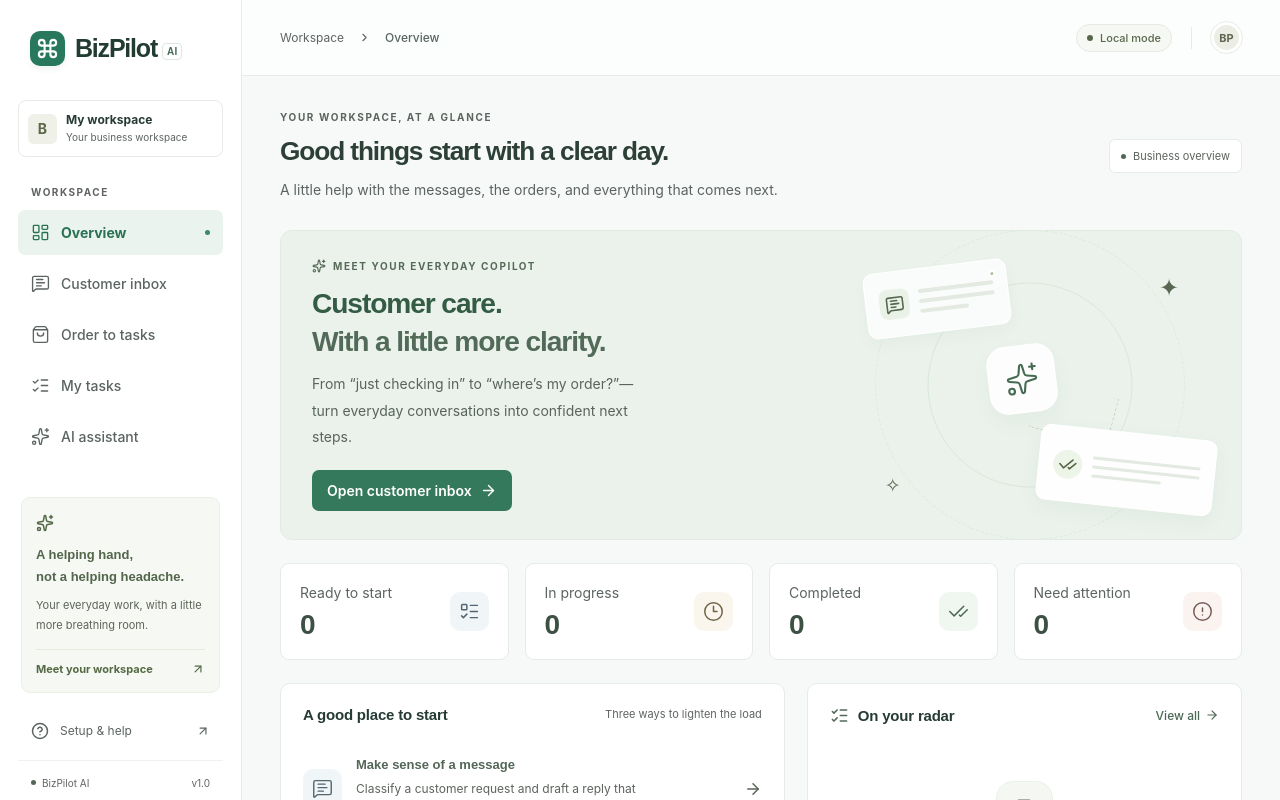
BizPilot workspace › saves a follow-up and disables duplicate saving
The image size is (1280, 800).
Click the button "Customer inbox": (120, 284) [18, 261, 223, 306]
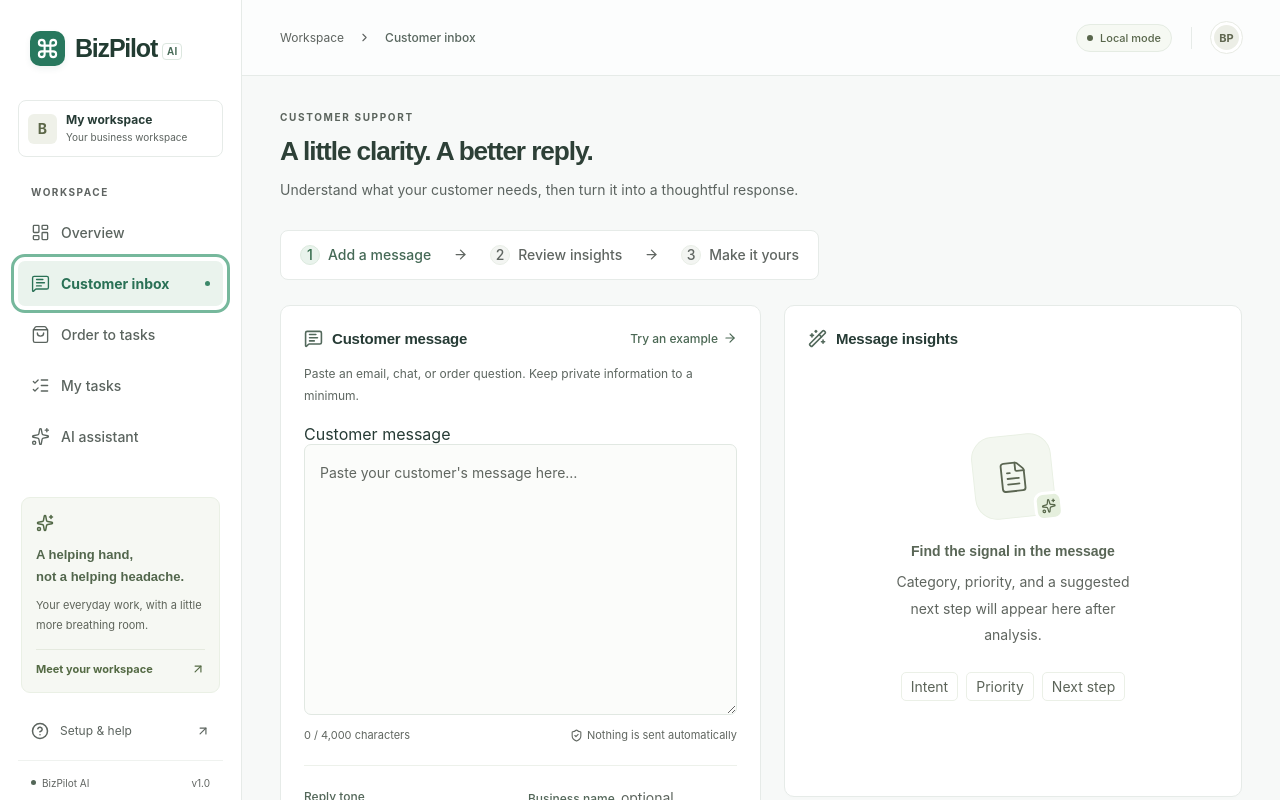
In the text box labelled "Customer message": (520, 580) [304, 444, 737, 715], type "My mug arrived broken"
(page scrolled)
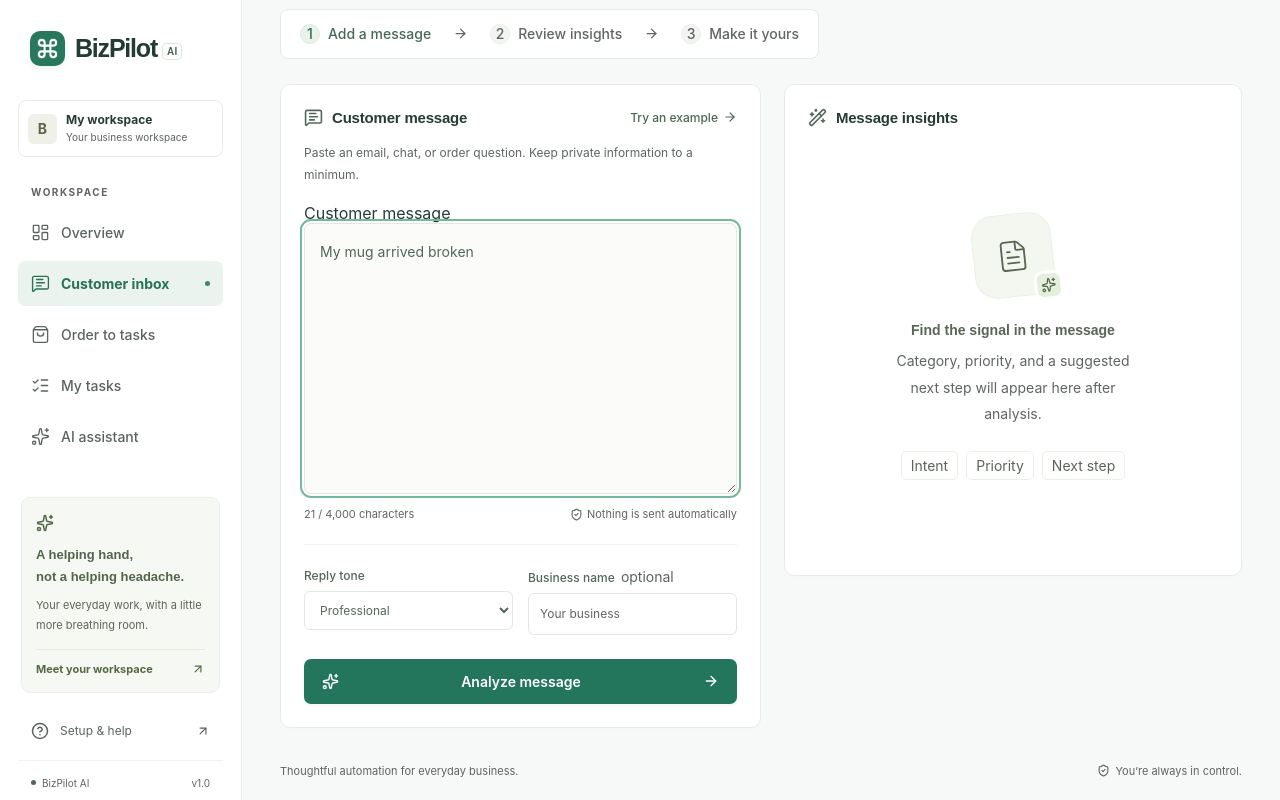
Click the button "Analyze message": (520, 681) [304, 659, 737, 704]
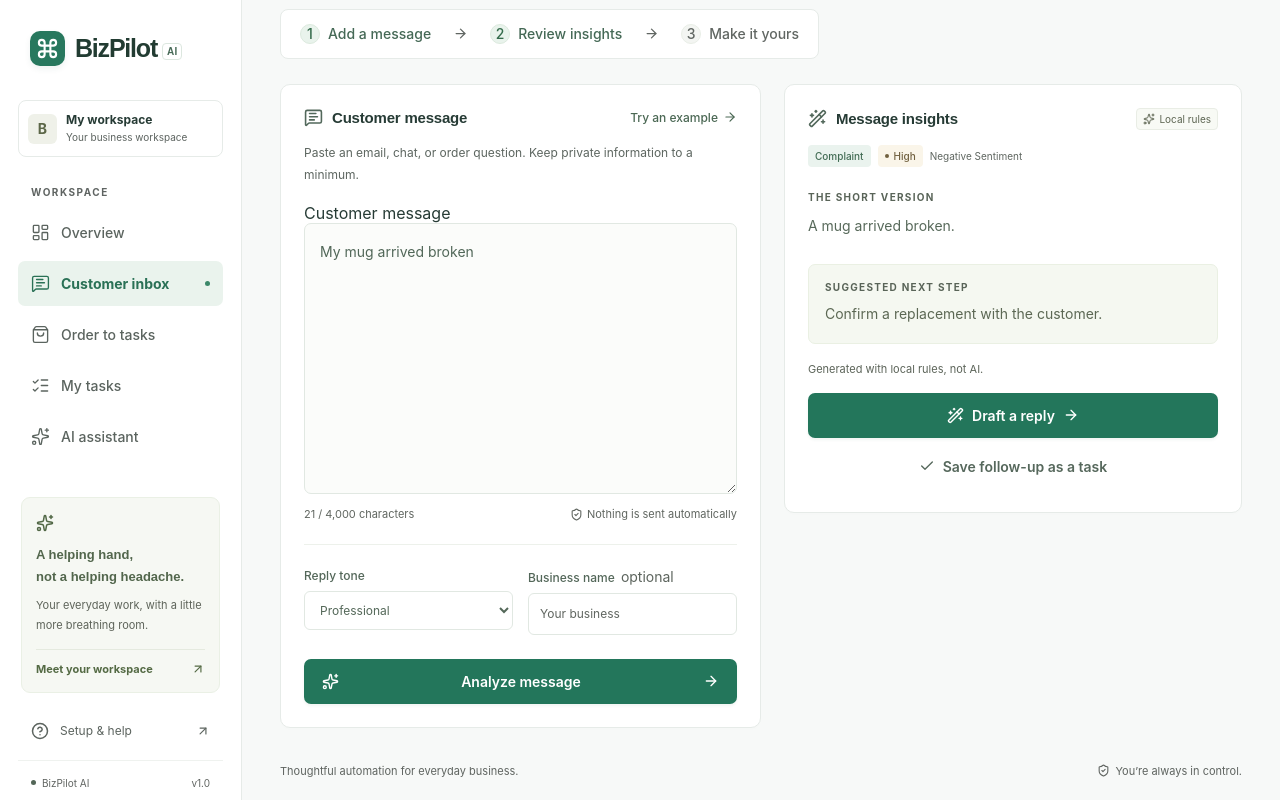
Click the button "Save follow-up as a task": (1013, 466) [808, 444, 1218, 489]
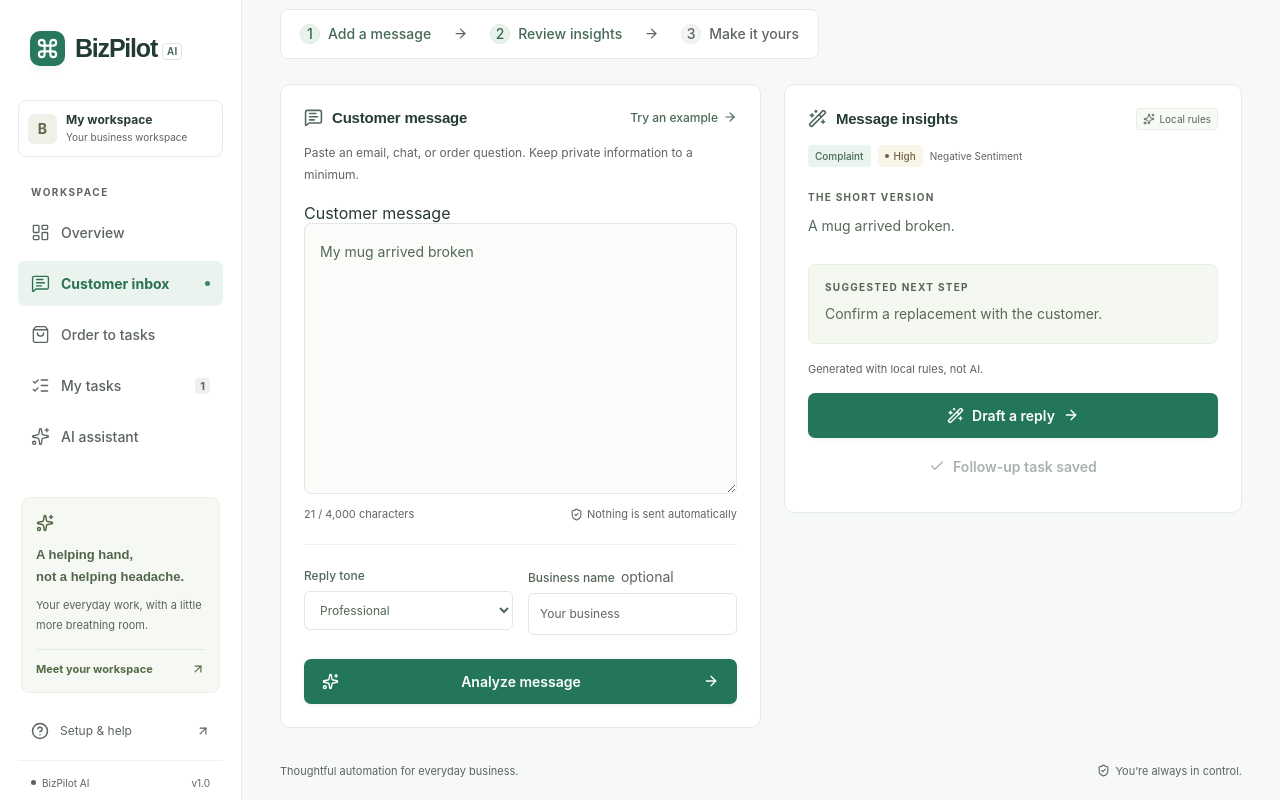
Expected: the button "Follow-up task saved" is disabled, [808, 444, 1218, 489]
